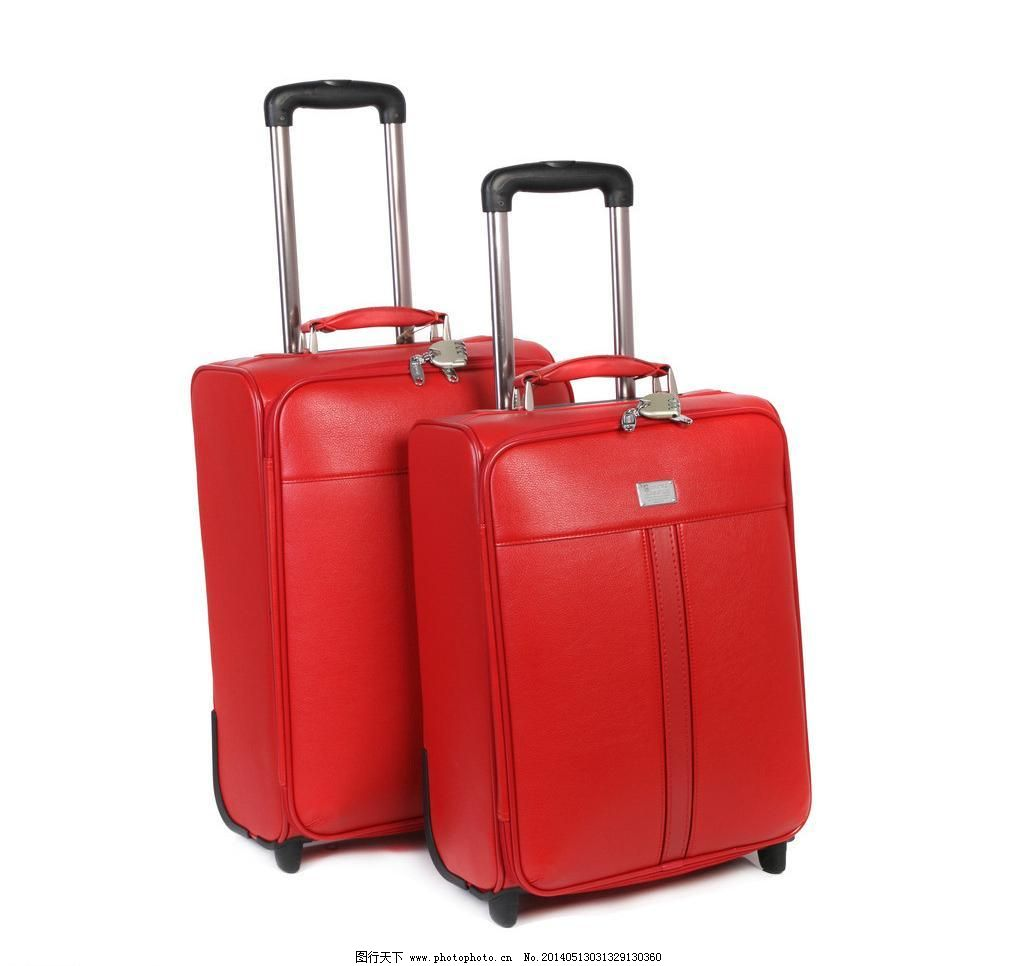luggage: (408, 150, 814, 928)
